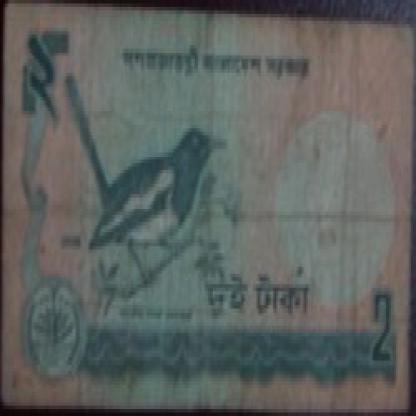two taka: (362, 278, 408, 374), (25, 28, 63, 114)
